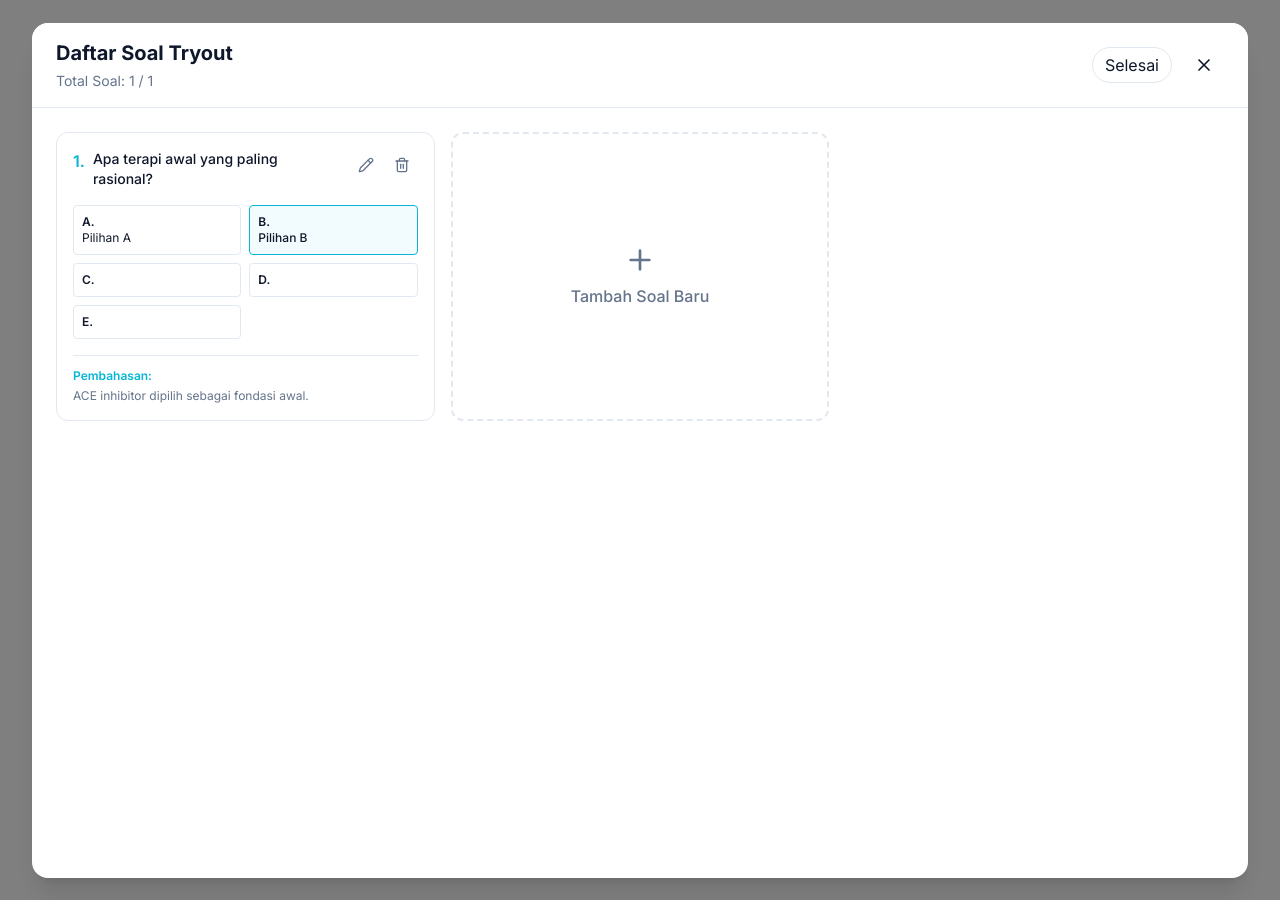
Test case: Scheduled event editor page - Grid and Modal › renders question cards and opens modal on add
Expected: the heading "Daftar Soal Tryout" is shown, left=56, top=38, right=233, bottom=66
Expected: the text "Apa terapi awal yang paling rasional?" is shown, left=93, top=150, right=282, bottom=186
// Click add
Click the button "Tambah Soal Baru": click(640, 276) left=451, top=132, right=829, bottom=420
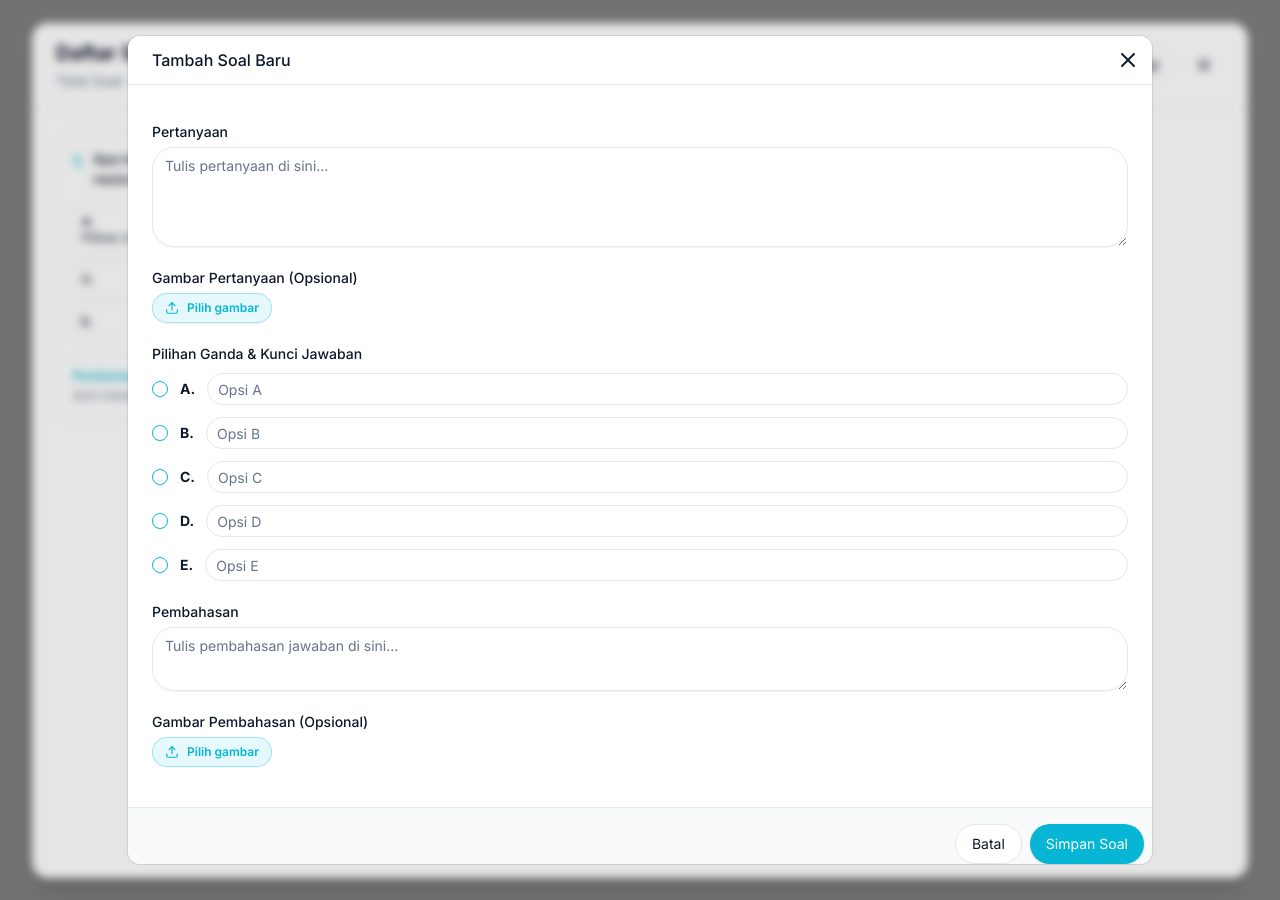
Now the heading "Tambah Soal Baru" is shown, box left=152, top=50, right=290, bottom=70
// Fill and save modal
In the text box labelled "Pertanyaan": (640, 197) left=152, top=147, right=1128, bottom=247, type "Soal Baru?"
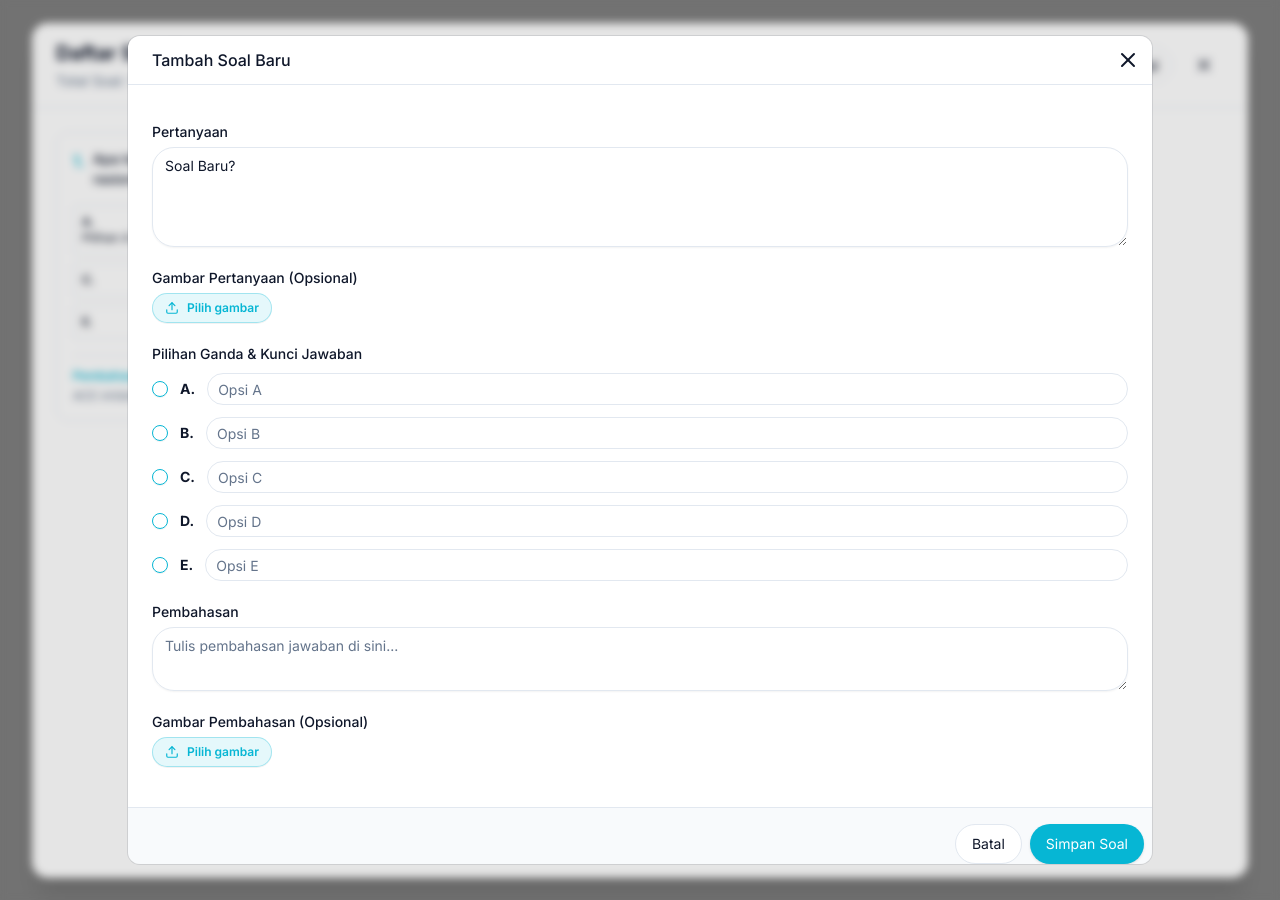
Click the button "Simpan Soal": click(1087, 844) left=1030, top=824, right=1144, bottom=864
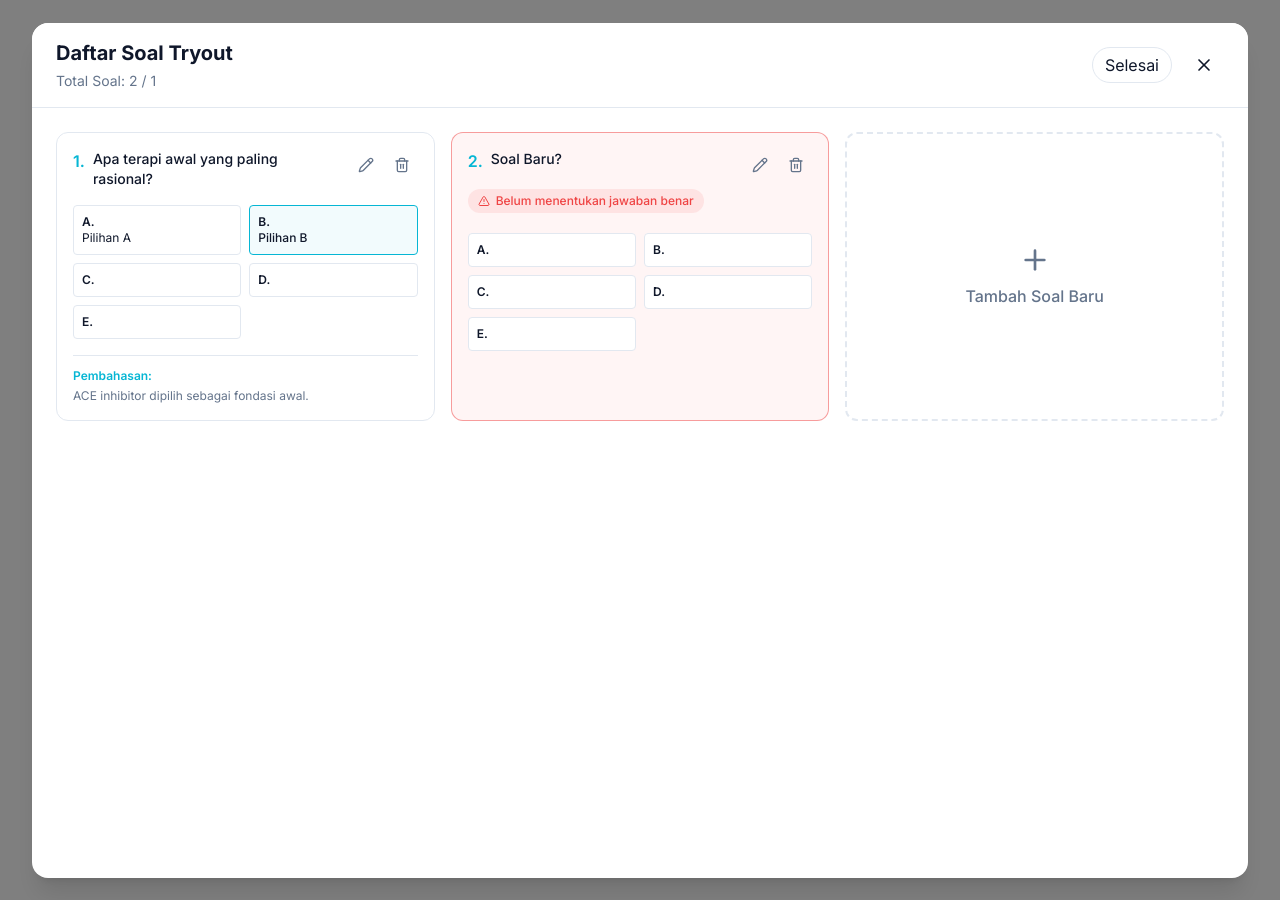
Now the text "Soal Baru?" is shown, box left=491, top=148, right=562, bottom=172
